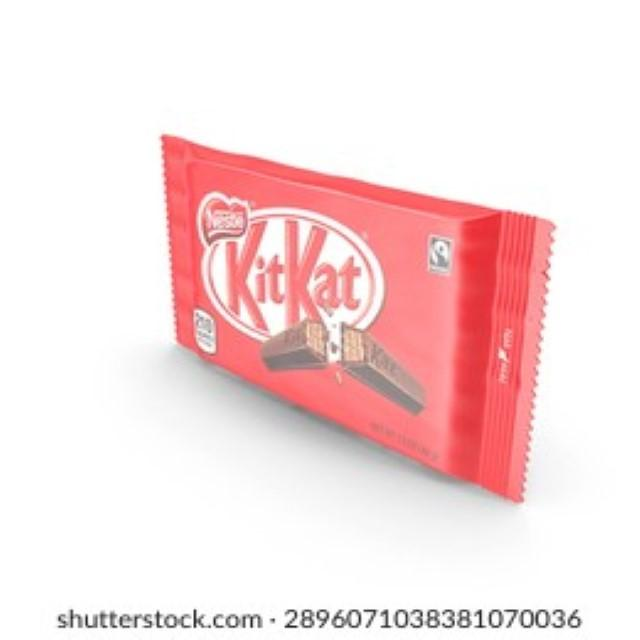kitkat_chocolate: (157, 120, 560, 498)
